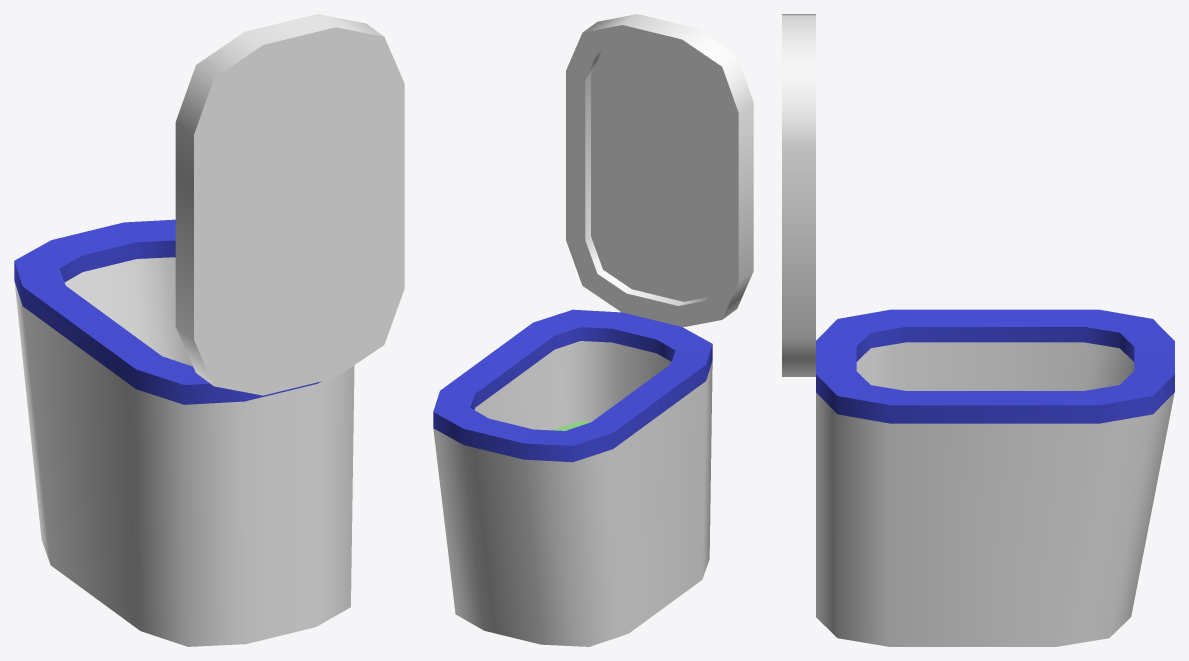
The model's file is toilet.glb.
The picture shows the model from 3 angles, left to right: view 1: azimuth 30°, elevation 25°; view 2: azimuth 150°, elevation 25°; view 3: azimuth 270°, elevation 25°; orthographic projection. The views are drawn at different scales.
Parts seen in each view (by area): view 1: 39, 40, 42; view 2: 39, 40, 42; view 3: 39, 42, 40.
Part boxes in pixels (x1,y1,x2,y2): 39: (14,257,354,646); 40: (175,14,404,395); 42: (14,219,321,404); 39: (433,341,712,646); 40: (566,14,753,327); 42: (433,309,712,462); 39: (816,342,1174,646); 42: (816,309,1174,423); 40: (782,14,815,376).
Size of the model in its own units: 1.45 by 4.03 by 2.52.
